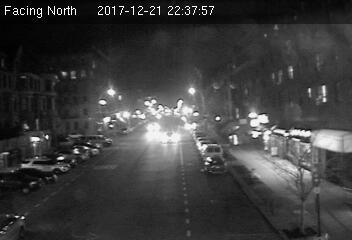car: (202, 156, 227, 175), (158, 129, 182, 145)
truck: (201, 143, 223, 160)
